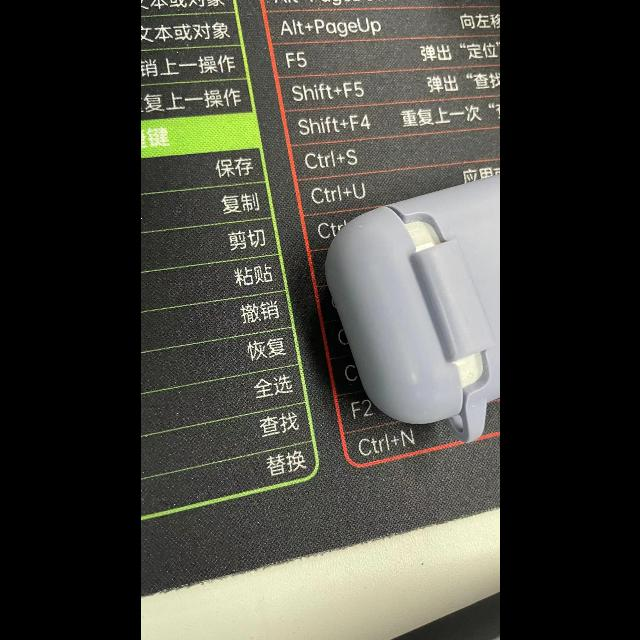airpods: (325, 173, 499, 445)
